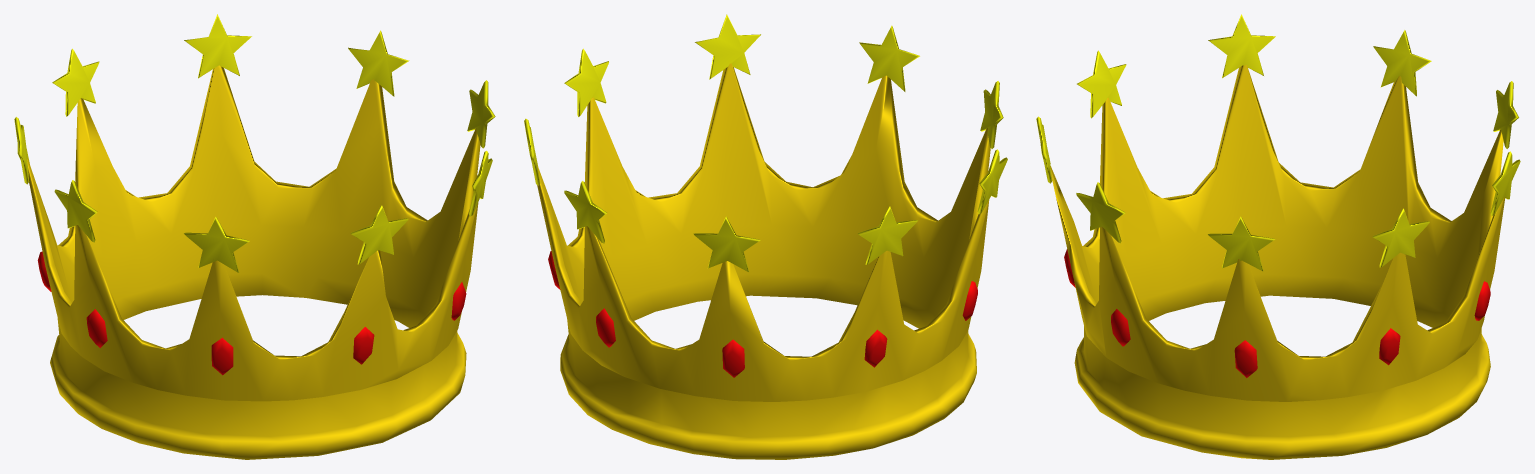
File: Crown.fbx
3 views of the same model, side by side, from view 1: azimuth 30°, elevation 25°; view 2: azimuth 150°, elevation 25°; view 3: azimuth 270°, elevation 25° (orthographic).
Parts seen in each view (by area): view 1: Crown; view 2: Crown; view 3: Crown.
Part boxes in pixels (x1,y1,x2,y2): Crown: [14, 14, 495, 459]; Crown: [524, 14, 1007, 459]; Crown: [1036, 14, 1520, 459].
Bounding box in the file's own units: 0.4324 × 0.258 × 0.4345.
